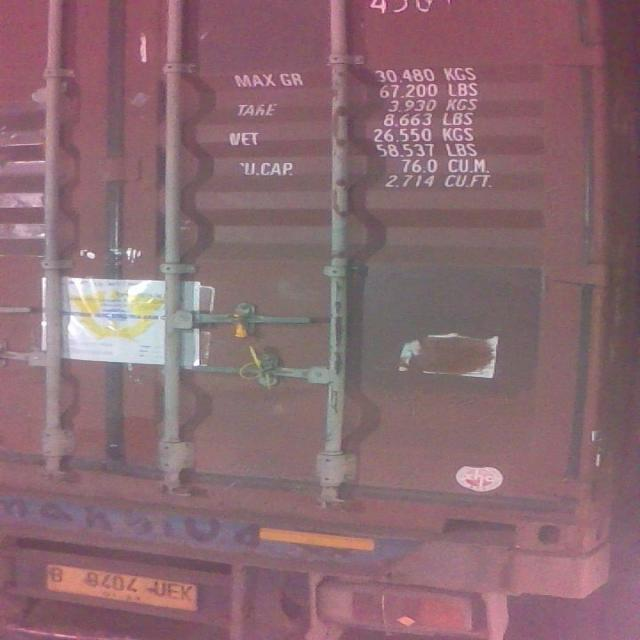seal: (238, 346, 286, 391), (230, 306, 258, 343)
